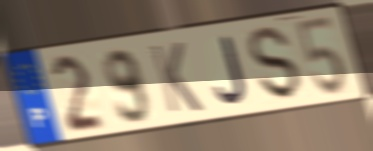2: (49, 52, 110, 137)
5: (294, 13, 349, 99)
9: (101, 46, 153, 124)
J: (212, 34, 249, 107)
K: (147, 40, 206, 116)
S: (247, 25, 304, 102)
